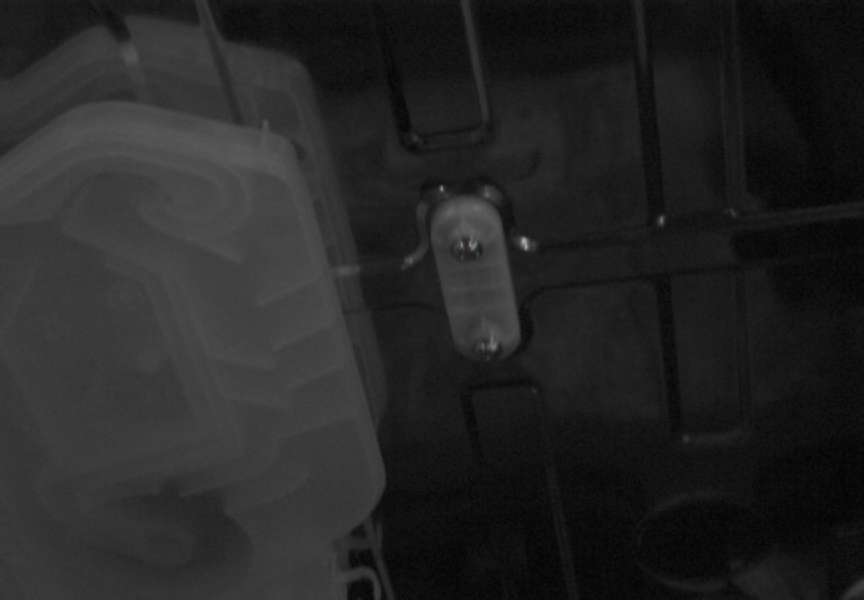screw: (450, 237, 483, 262), (473, 336, 502, 362)
